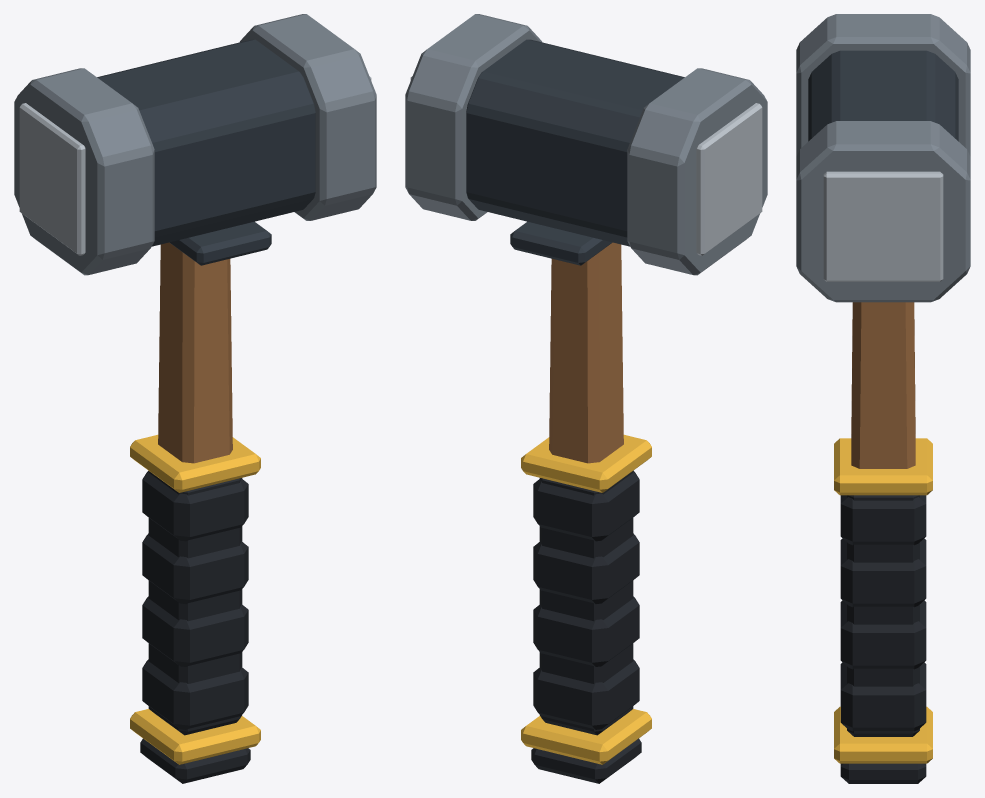
File: Tool_SteelHammer.fbx
3 views of the same model, side by side, from view 1: azimuth 30°, elevation 25°; view 2: azimuth 150°, elevation 25°; view 3: azimuth 270°, elevation 25° (orthographic).
Visible parts, largest first — view 1: FrameDark, Steel, Rubber, Wood, Amber, SteelLight; view 2: FrameDark, Steel, Rubber, Wood, Amber, SteelLight; view 3: Steel, Rubber, SteelLight, Wood, FrameDark, Amber.
Boxes of the visible parts, x1,y1,x2,y2 form: FrameDark: (97, 39, 315, 265); Steel: (14, 14, 376, 275); Rubber: (140, 470, 250, 783); Wood: (158, 242, 232, 463); Amber: (130, 434, 260, 764); SteelLight: (19, 76, 371, 255); FrameDark: (466, 39, 684, 265); Steel: (405, 14, 767, 275); Rubber: (531, 470, 641, 783); Wood: (549, 242, 623, 463); Amber: (521, 434, 651, 764); SteelLight: (410, 76, 762, 255); Steel: (796, 14, 970, 302); Rubber: (840, 495, 926, 783); SteelLight: (823, 171, 943, 281); Wood: (851, 302, 915, 468); FrameDark: (808, 50, 958, 141); Amber: (834, 438, 932, 763).
Size of the model in its own units: 1.96 by 4.45 by 1.02.
